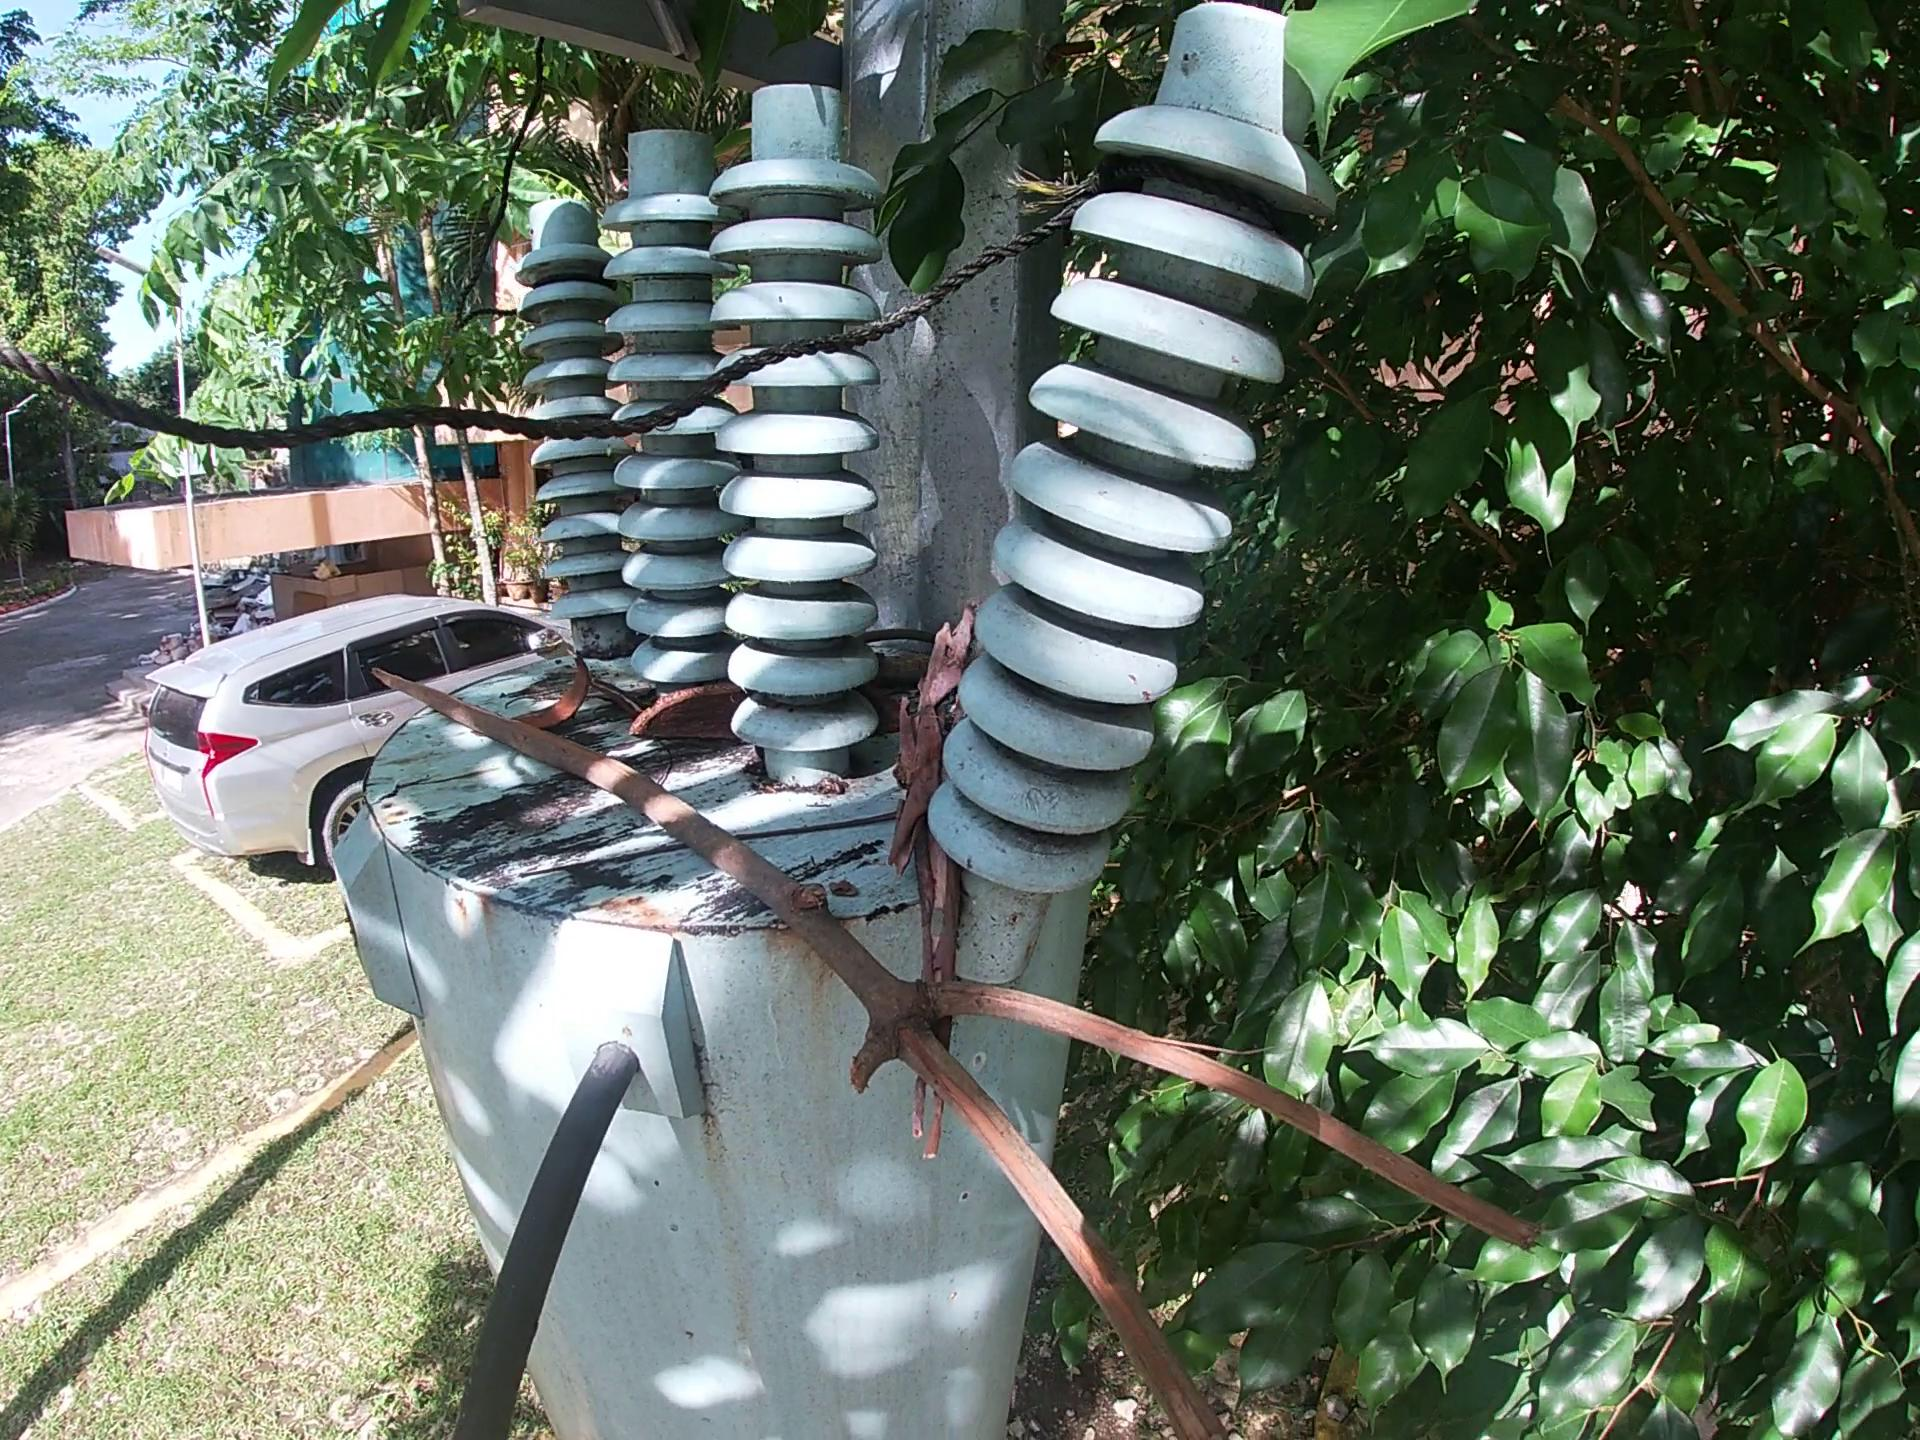mahogany fruit: (624, 679, 751, 746), (509, 650, 593, 735)
tree branch: (358, 653, 1556, 1435), (884, 601, 996, 1171), (862, 625, 946, 647)
